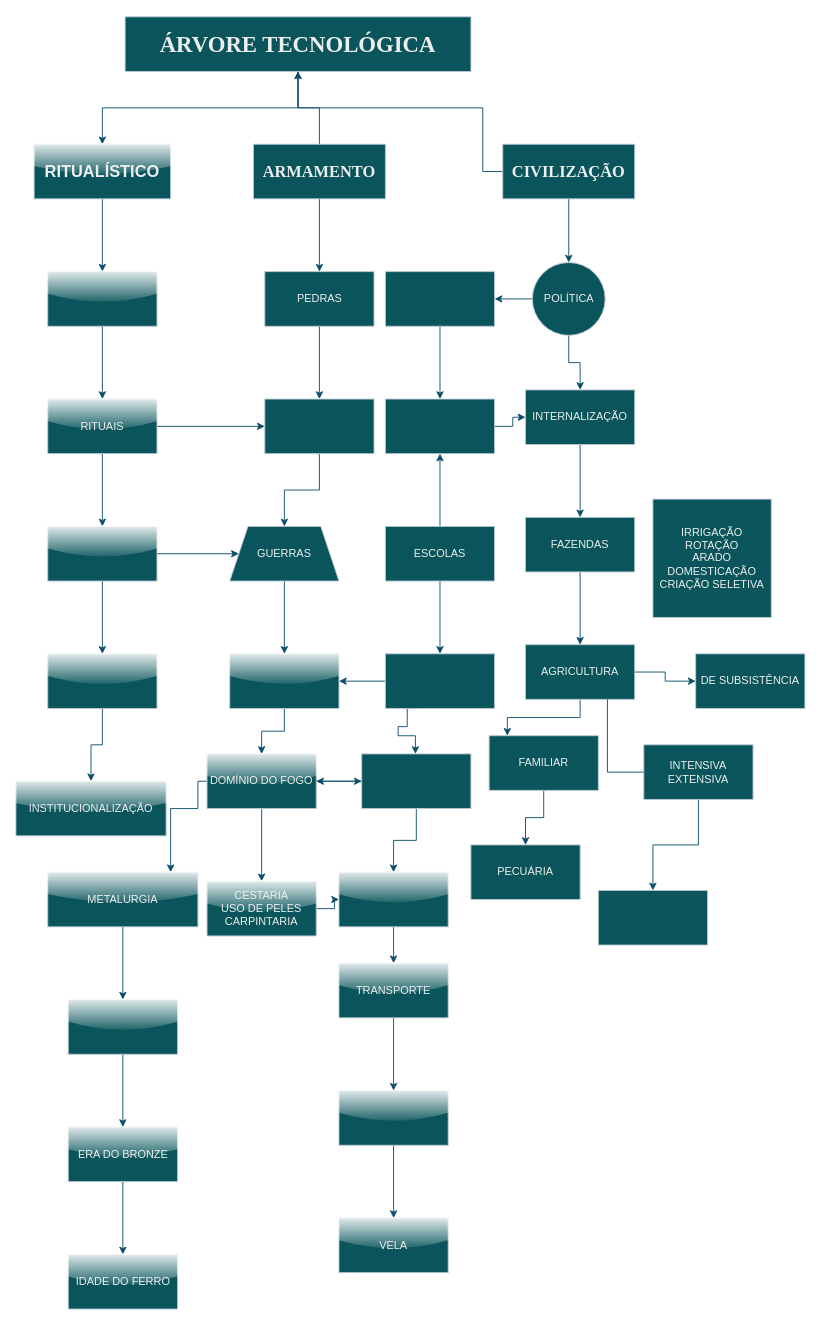
The diagram is 821 pixels wide and 1325 high, and some of its shapes have lost their labels. Here are the shapes that lost their labels. From the top down, the centre of each, then its label:
[102,298]: FÉ
[439,298]: ORGANIZAÇÃO
[319,426]: FERRAMENTAS
[439,426]: ESCRITA
[102,553]: IGREJAS
[102,680]: DOUTRINAS
[284,680]: ESTRATÉGIA
[439,680]: FILOSOFIA
[416,781]: CIÊNCIAS
[393,899]: CONSTRUÇÃO COMPLEXA
[652,917]: PATRONAL
[122,1026]: USO DO COBRE
[393,1117]: NAVEGAÇÃO COSTEIRA
